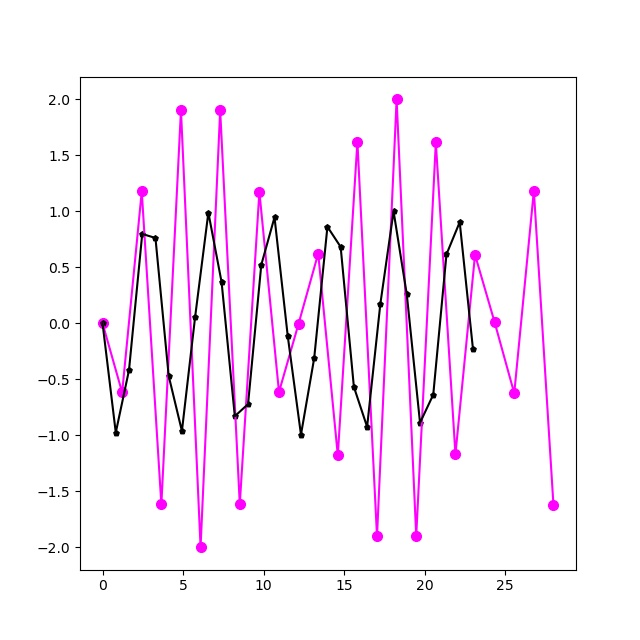circle: (97, 318, 109, 330), (117, 387, 129, 399), (136, 186, 148, 198), (156, 499, 168, 511), (175, 105, 187, 117), (195, 542, 207, 554), (215, 105, 227, 117), (234, 499, 246, 511), (254, 186, 266, 198), (273, 387, 285, 399), (293, 318, 305, 330), (313, 248, 325, 260), (332, 450, 344, 462), (352, 136, 364, 148), (372, 531, 384, 543), (391, 94, 403, 106), (411, 531, 423, 543), (430, 137, 442, 149), (450, 449, 462, 461), (470, 249, 482, 261), (489, 317, 501, 329), (509, 388, 521, 400), (528, 185, 540, 197), (548, 500, 560, 512)
pentagon: (99, 319, 108, 328), (112, 429, 121, 438), (125, 366, 134, 375), (138, 230, 147, 239), (151, 234, 160, 243), (165, 372, 174, 381), (178, 427, 187, 436), (191, 313, 200, 322), (204, 209, 213, 218), (218, 278, 227, 287), (231, 412, 240, 421), (244, 400, 253, 409), (257, 261, 266, 270), (271, 213, 280, 222), (284, 332, 293, 341), (297, 431, 306, 440), (310, 354, 319, 363), (323, 223, 332, 232), (337, 243, 346, 252), (350, 383, 359, 392), (363, 423, 372, 432), (376, 300, 385, 309), (390, 207, 399, 216), (403, 290, 412, 299), (416, 419, 425, 428), (429, 391, 438, 400), (442, 250, 451, 259), (456, 218, 465, 227), (469, 345, 478, 354)
